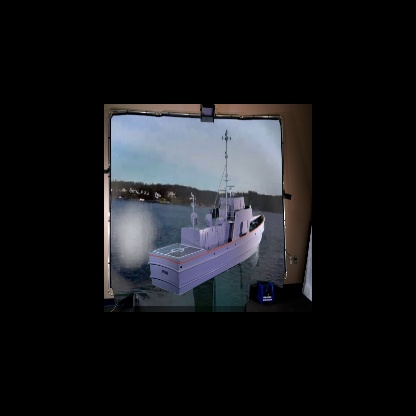YP689: (148, 128, 266, 296)
